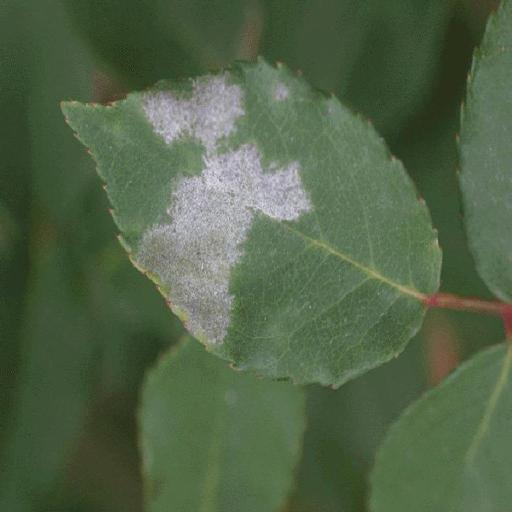powdery_mildew: (62, 60, 442, 386)
